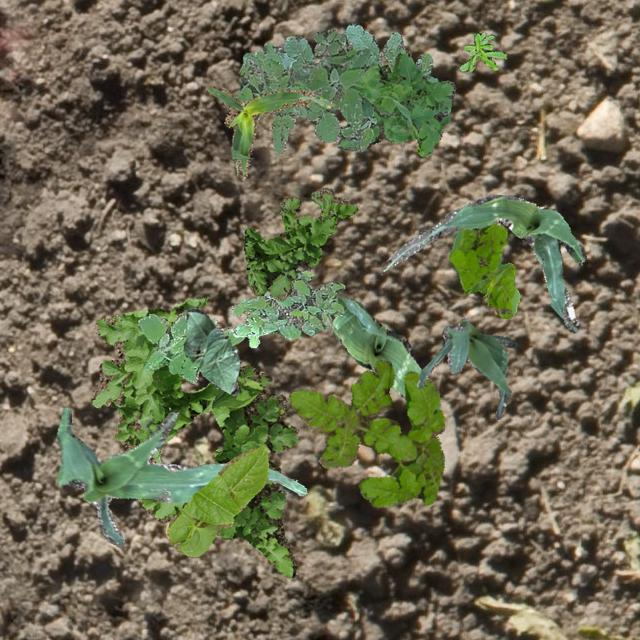crop: (56, 407, 306, 548), (385, 194, 585, 332), (328, 296, 439, 409), (205, 86, 334, 180), (165, 444, 268, 556), (416, 316, 516, 418), (182, 308, 240, 394)
weed: (90, 296, 298, 578), (237, 22, 438, 152), (287, 358, 443, 506), (330, 48, 454, 156), (242, 186, 356, 300), (290, 28, 376, 150), (232, 268, 344, 346), (136, 308, 244, 382), (448, 220, 518, 318), (458, 30, 506, 70)
